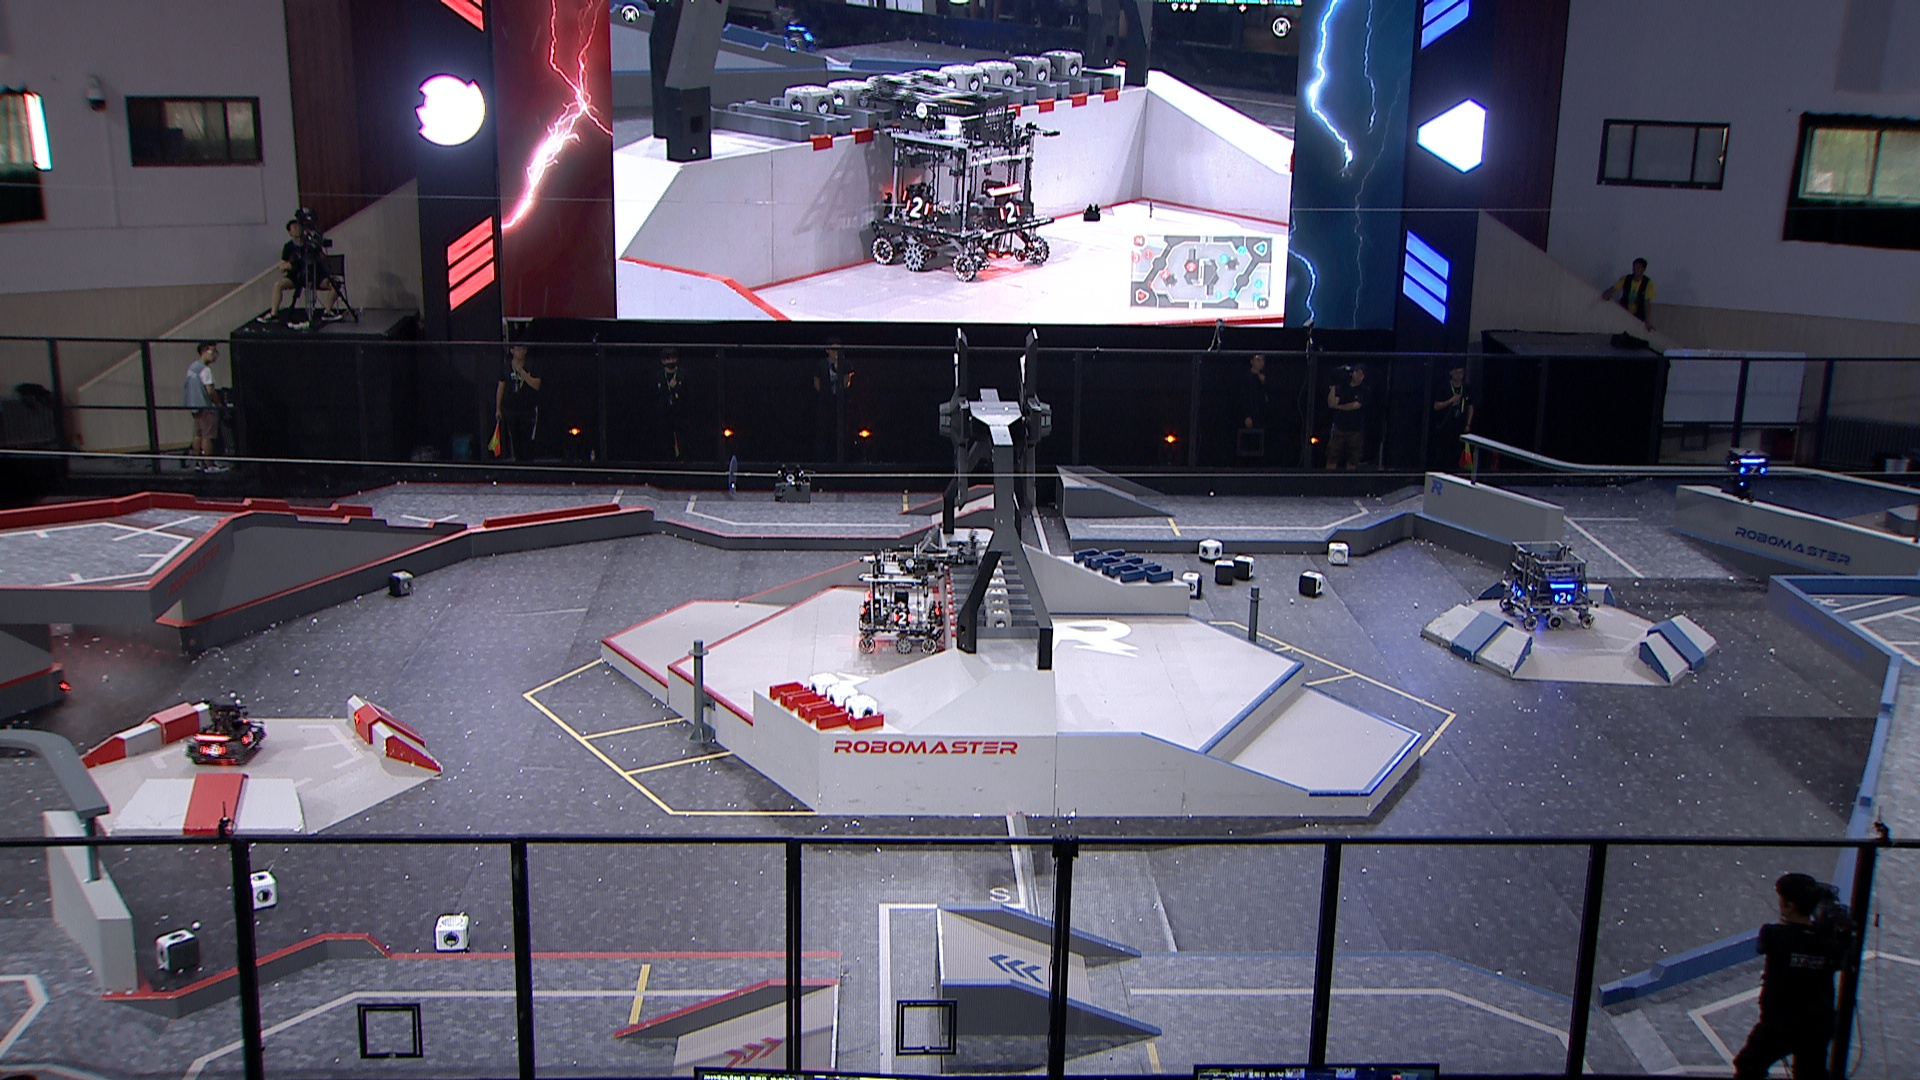armor: (1735, 462, 1768, 477), (237, 727, 261, 746), (200, 742, 225, 760), (891, 609, 913, 629), (1552, 589, 1572, 607), (1509, 579, 1524, 600)
car: (855, 541, 945, 659), (1498, 541, 1604, 632), (183, 698, 266, 769)
ignore: (864, 76, 1058, 285), (750, 7, 825, 55)
watcher: (1721, 446, 1770, 505)
